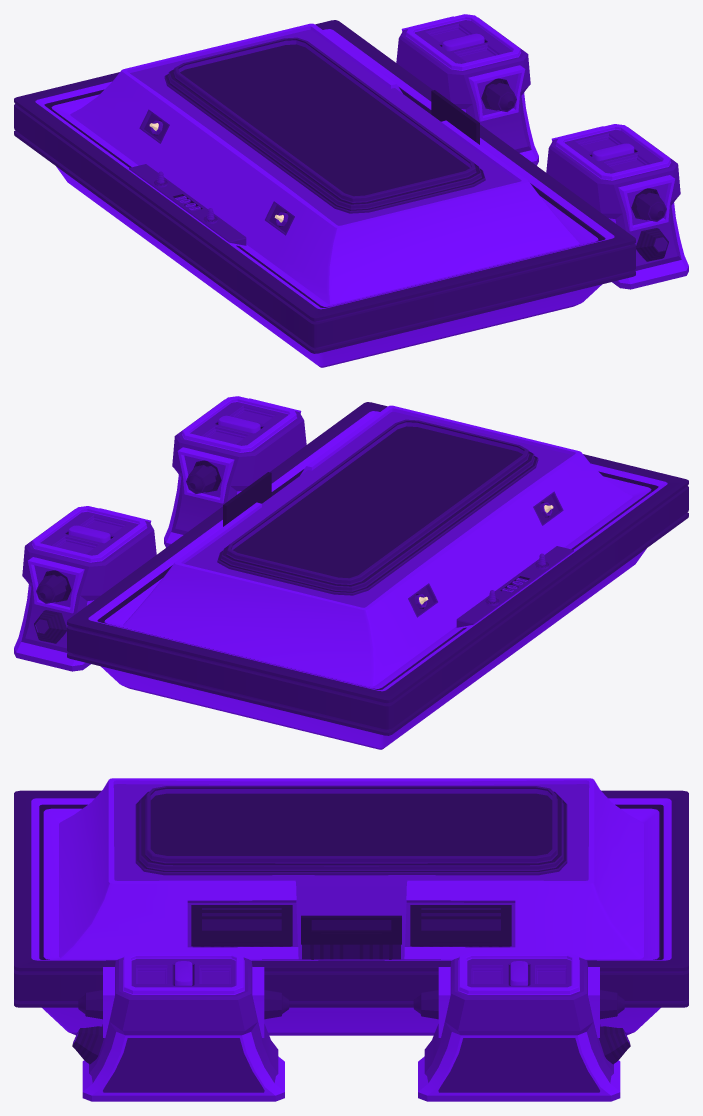
Rendered from Magnavox_Odyssey .gltf.
The picture shows the model from 3 angles, top to bottom: view 1: azimuth 30°, elevation 25°; view 2: azimuth 150°, elevation 25°; view 3: azimuth 270°, elevation 25°; orthographic projection. The views are drawn at different scales.
Visible parts, largest first — view 1: Magnavox Odyssey, Magnavox Odyssey_disk; view 2: Magnavox Odyssey, Magnavox Odyssey_disk; view 3: Magnavox Odyssey, Magnavox Odyssey_disk.
Boxes of the visible parts, x1=… form: Magnavox Odyssey: x1=14, y1=14, x2=688, y2=367; Magnavox Odyssey_disk: x1=431, y1=90, x2=479, y2=144; Magnavox Odyssey: x1=14, y1=396, x2=688, y2=749; Magnavox Odyssey_disk: x1=223, y1=472, x2=271, y2=526; Magnavox Odyssey: x1=14, y1=778, x2=688, y2=1101; Magnavox Odyssey_disk: x1=301, y1=915, x2=401, y2=959.
Bounding box in the file's own units: 1.52 × 0.453 × 1.91.
Materials: 1 (1 with a texture image).
